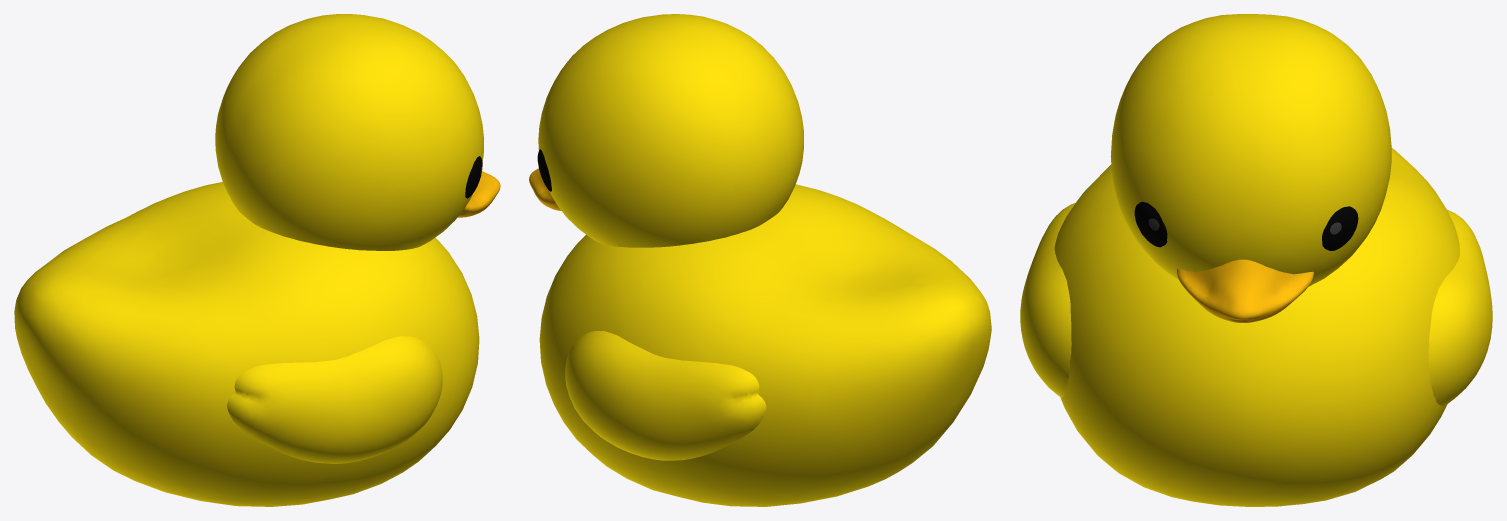
File: duck-new.glb
3 renders of one model, left to right at view 1: azimuth 30°, elevation 25°; view 2: azimuth 150°, elevation 25°; view 3: azimuth 270°, elevation 25°, orthographic. The views are drawn at different scales.
Parts seen in each view (by area): view 1: Mesh_4, Mesh_6, wing#1.001, Mesh_3; view 2: Mesh_4, Mesh_6, wing#1, Mesh_3; view 3: Mesh_4, Mesh_6, wing#1, wing#1.001, Mesh_3, eye#1, eye#1.001.
Part boxes in pixels (x1=…): Mesh_4: x1=14, y1=182, x2=479, y2=506; Mesh_6: x1=215, y1=14, x2=483, y2=250; wing#1.001: x1=227, y1=336, x2=442, y2=463; Mesh_3: x1=458, y1=171, x2=500, y2=217; Mesh_4: x1=539, y1=184, x2=991, y2=506; Mesh_6: x1=538, y1=14, x2=803, y2=247; wing#1: x1=565, y1=331, x2=766, y2=460; Mesh_3: x1=529, y1=168, x2=561, y2=210; Mesh_4: x1=1054, y1=148, x2=1459, y2=506; Mesh_6: x1=1110, y1=14, x2=1391, y2=286; wing#1: x1=1428, y1=210, x2=1492, y2=405; wing#1.001: x1=1020, y1=202, x2=1075, y2=397; Mesh_3: x1=1177, y1=259, x2=1313, y2=322; eye#1: x1=1322, y1=206, x2=1358, y2=250; eye#1.001: x1=1134, y1=201, x2=1167, y2=247.
Bounding box in the file's own units: 12.03 × 10.68 × 9.61.
3 materials, 1 textured.
